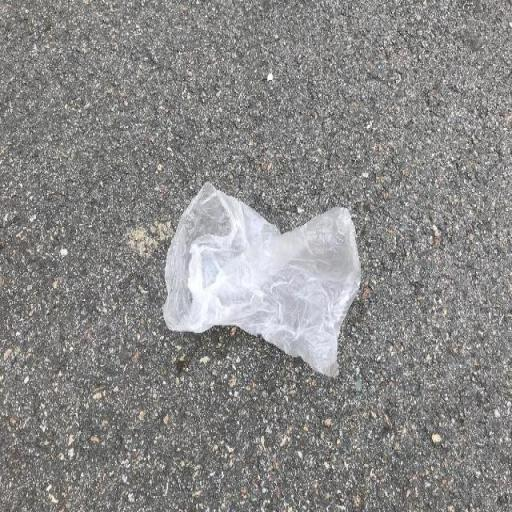plastic-bag: (157, 186, 360, 387)
